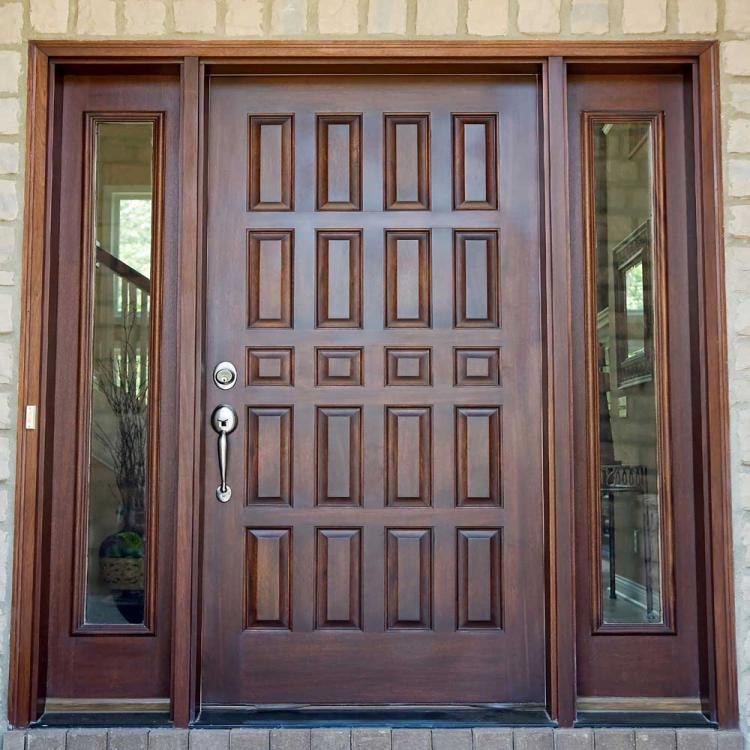ClosedDoor: (186, 51, 561, 730)
